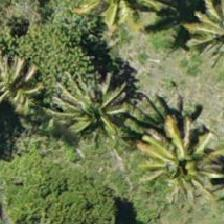coconut_tree: (51, 66, 141, 156), (133, 113, 223, 203), (177, 0, 223, 74)
